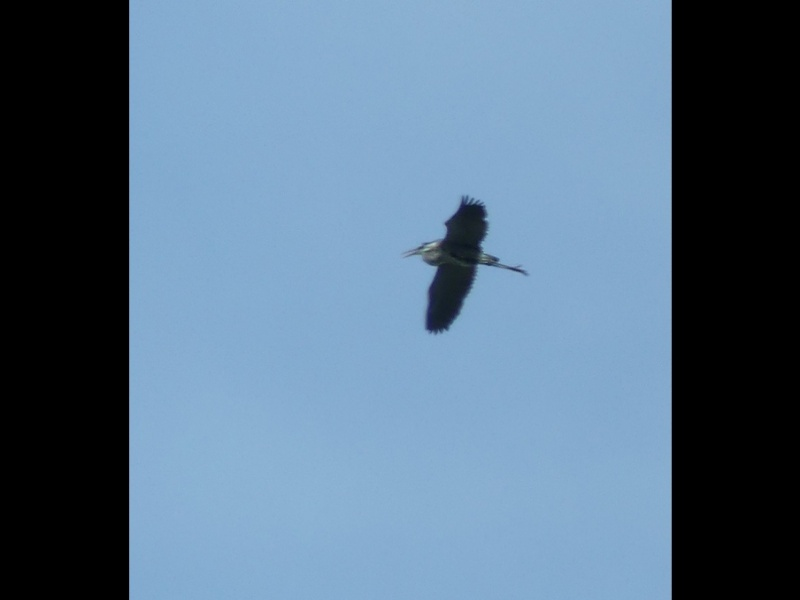heron: (407, 194, 529, 335)
